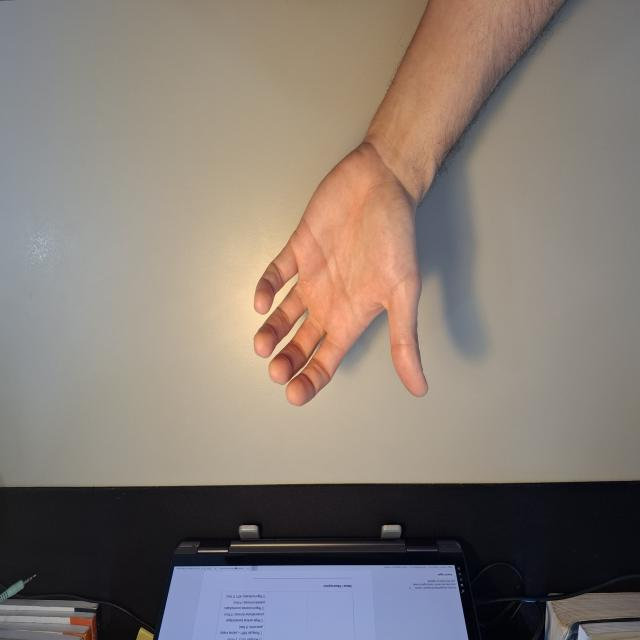glove_off: (252, 136, 431, 410)
